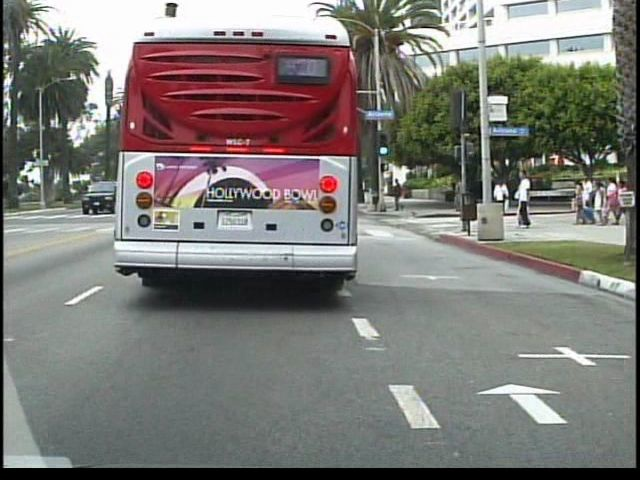person: (515, 167, 538, 230), (390, 176, 411, 216), (493, 174, 513, 216), (453, 176, 470, 216)
